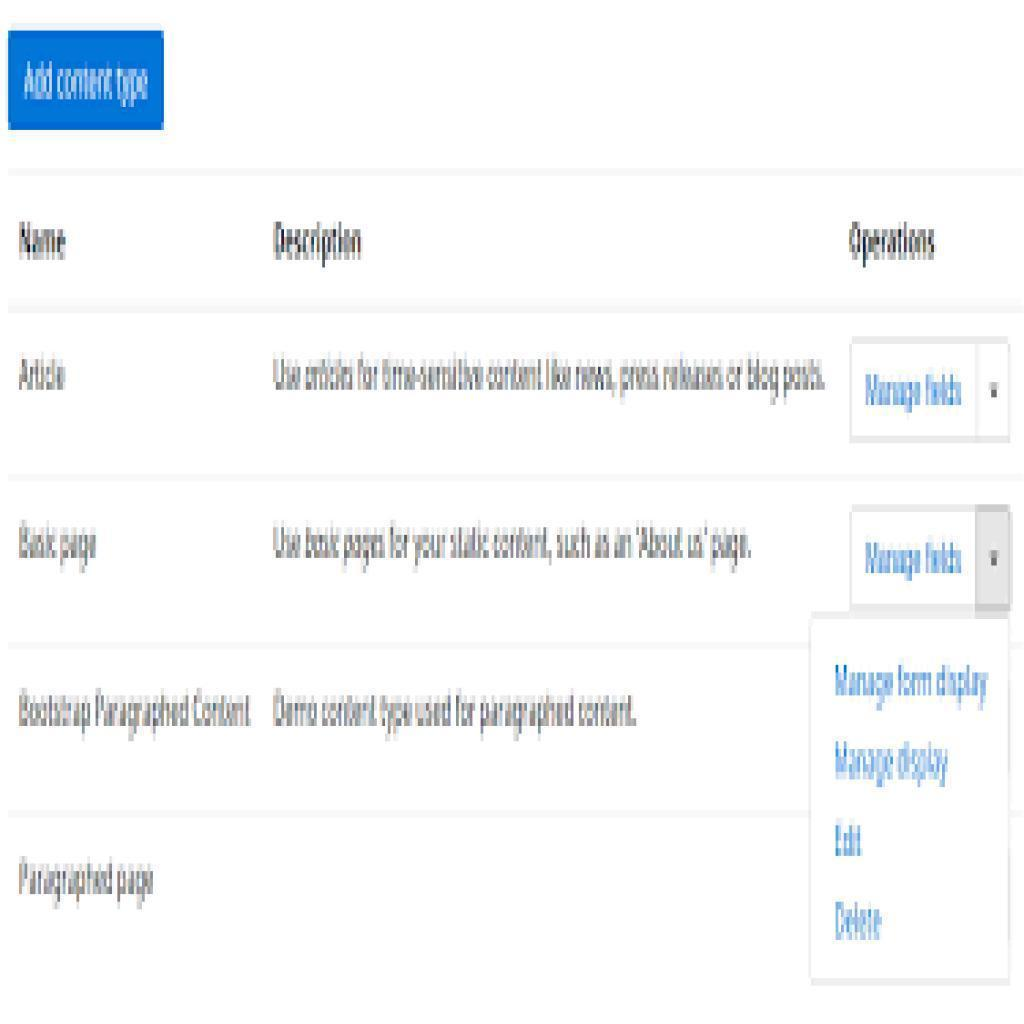button: (8, 32, 165, 127)
dropdown: (849, 502, 1015, 613), (848, 340, 1010, 442)
